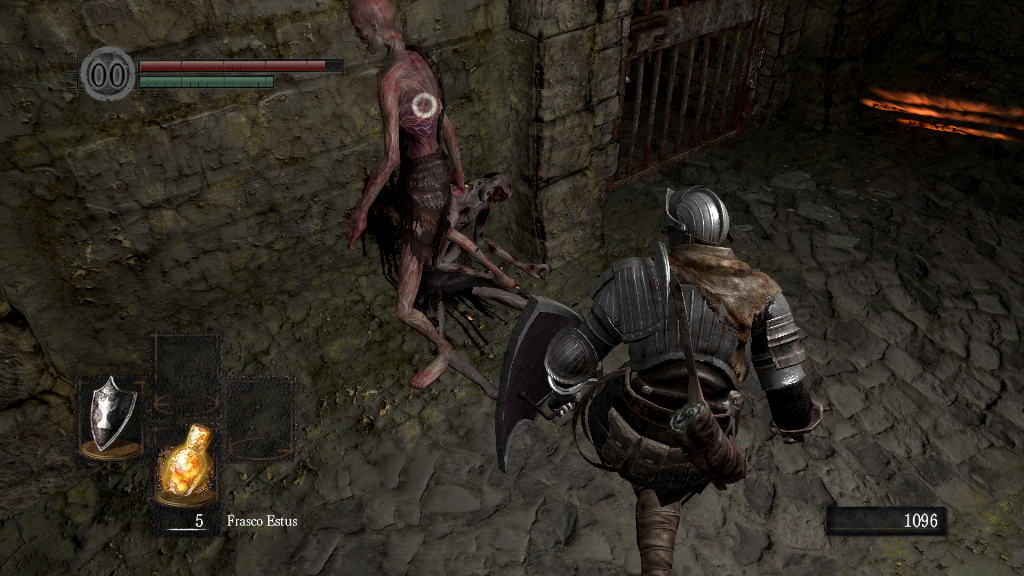health: (138, 58, 343, 71)
hollow: (338, 1, 516, 391)
humanity: (80, 45, 136, 102)
player: (493, 185, 826, 576)
souls: (825, 506, 945, 536)
stamina: (138, 74, 274, 88)
